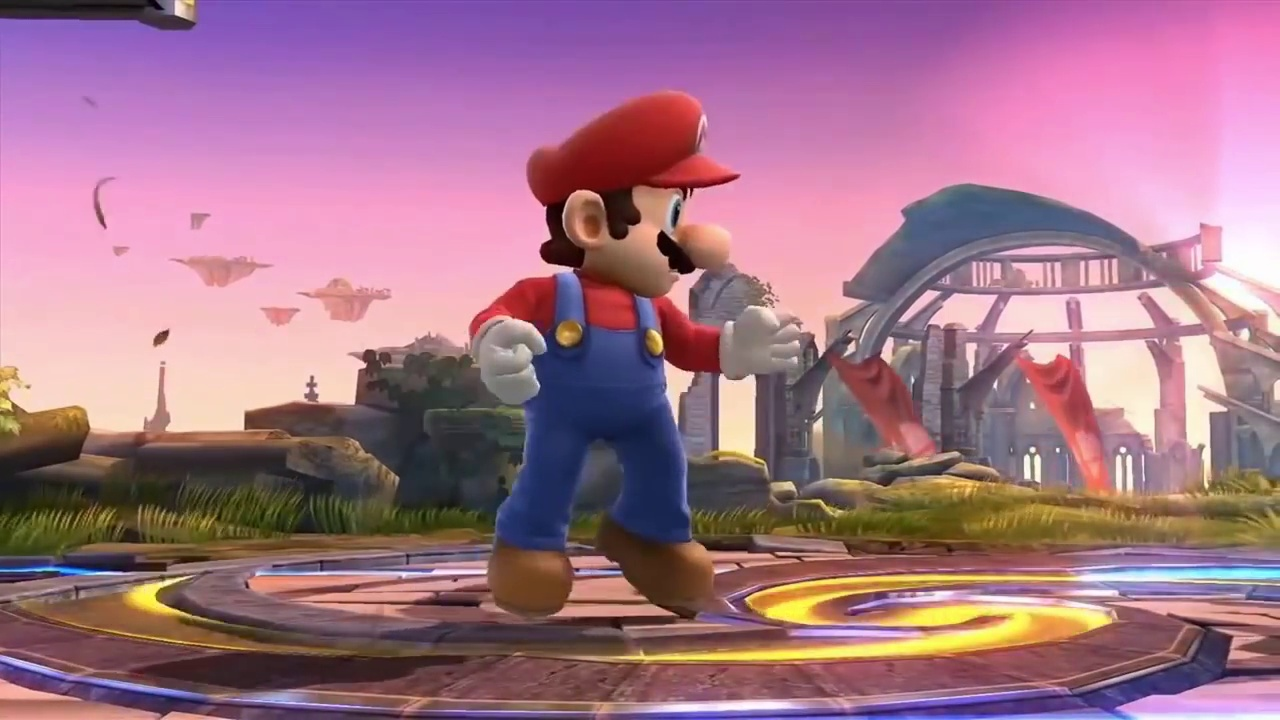Mario: (470, 90, 800, 612)
